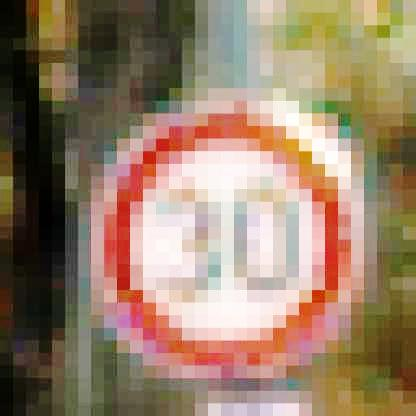Speed Limit -30-: (88, 90, 368, 378)
